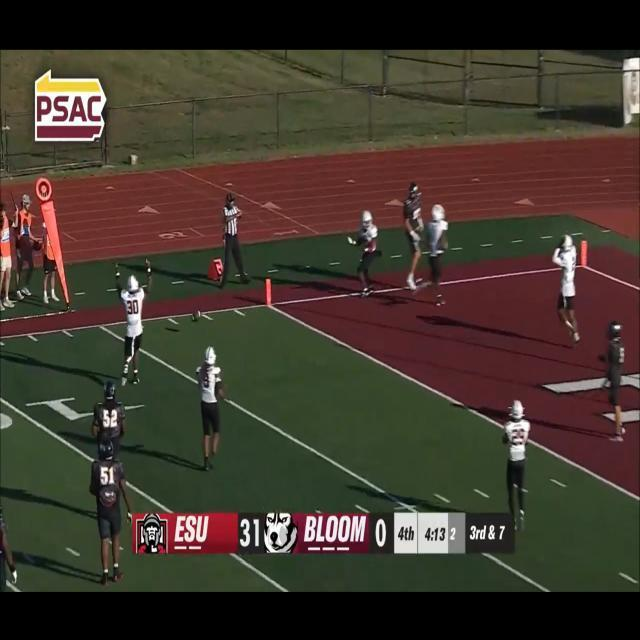football: (187, 302, 204, 328)
